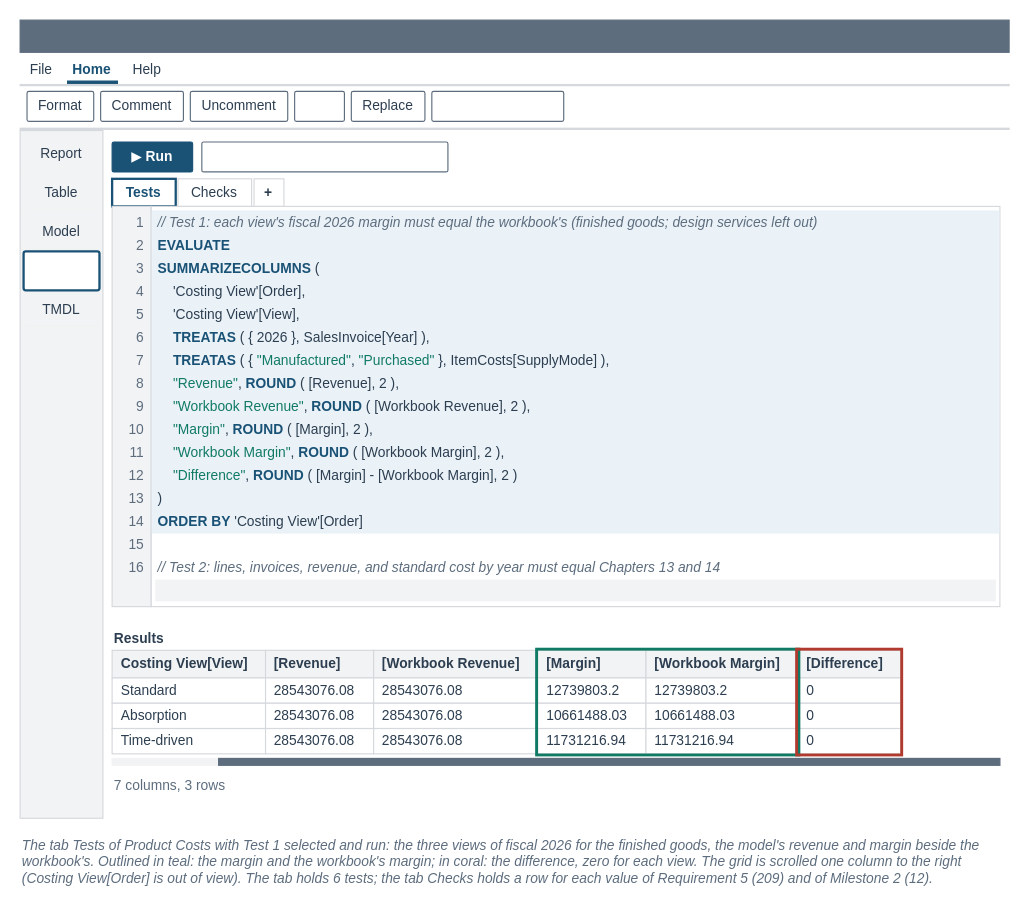
Some shapes in this 1029 by 913 pixel diagram are drawn without their labels. The box of each missing label's shape, as (x1, y1, x2, y2) in pixels:
Command palette: (431, 90, 564, 121)
DAX query: (22, 250, 100, 291)
Find: (293, 90, 344, 121)
Lines 17 to 70: the rest of Test 2, and Tests 3 to 6: (155, 579, 995, 601)
Product Costs - Power BI Desktop: (19, 19, 1009, 52)
Update model with changes (0): (201, 141, 448, 172)
